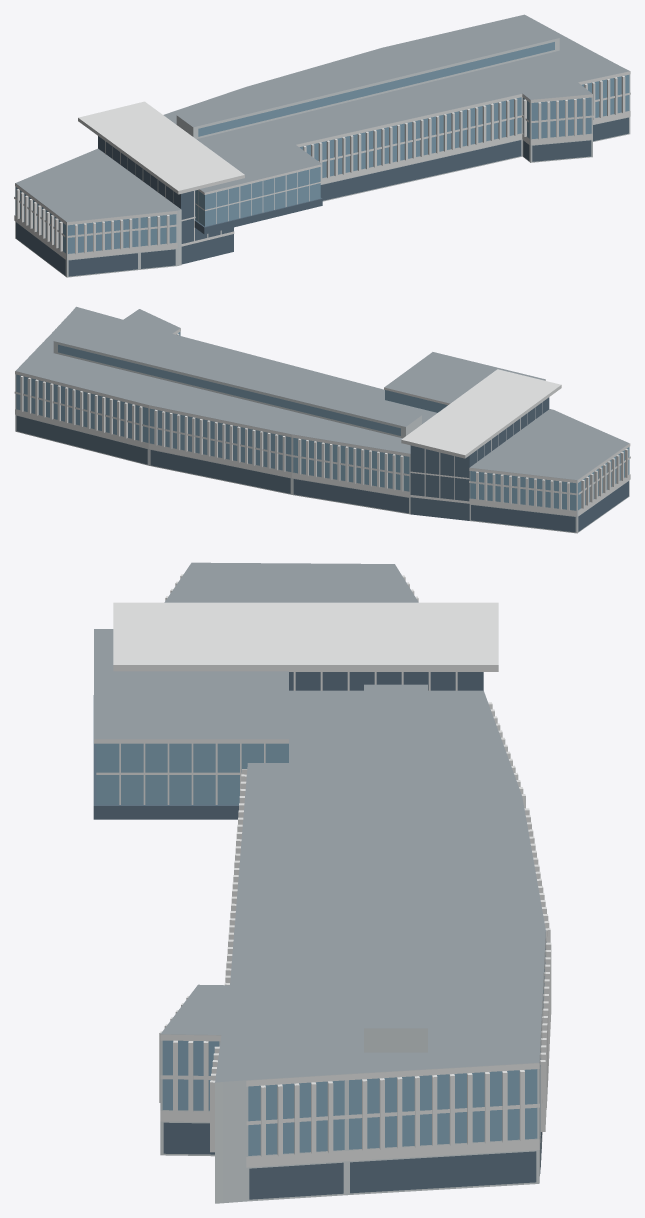
Rendered from ral-union-station.glb.
3 renders of one model, top to bottom at view 1: azimuth 30°, elevation 25°; view 2: azimuth 150°, elevation 25°; view 3: azimuth 270°, elevation 25°, orthographic. The views are drawn at different scales.
Visible parts, largest first — view 1: Raleigh Union Station; view 2: Raleigh Union Station; view 3: Raleigh Union Station.
Part boxes in pixels (box(x1,y1,x2,y2)): Raleigh Union Station: box(14, 14, 630, 277); Raleigh Union Station: box(14, 306, 630, 533); Raleigh Union Station: box(93, 562, 551, 1203).
Bounding box in the file's own units: 119 × 15.7 × 42.77.
